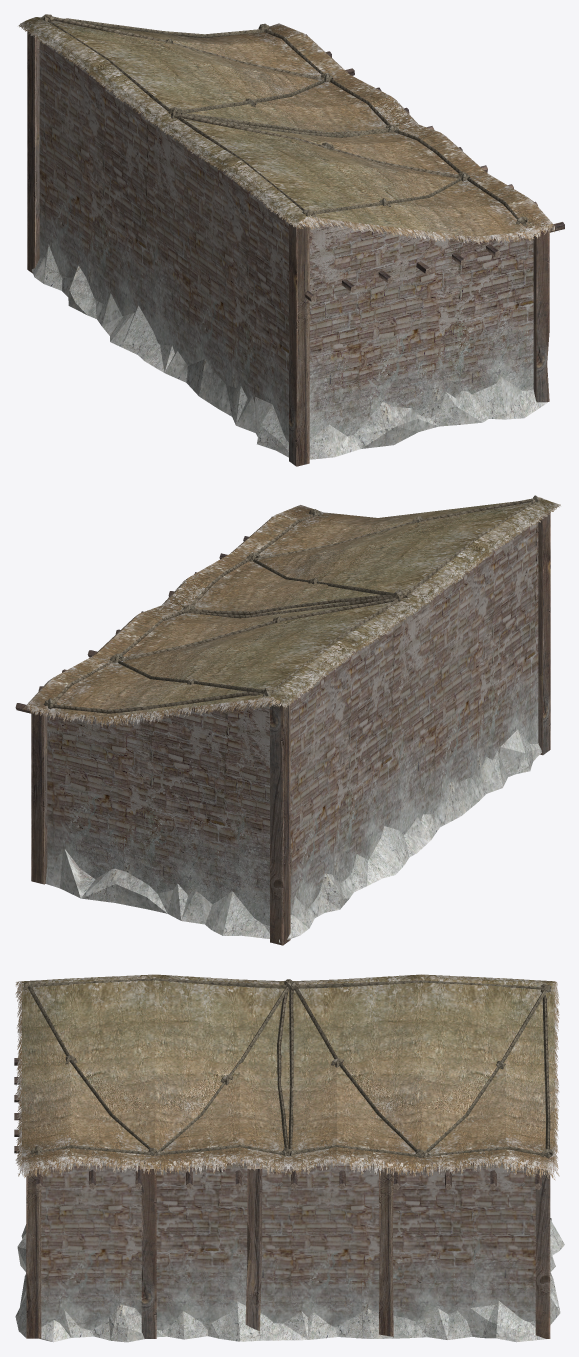
Rendered from bg_eud_common_house01_sm_ysi.FBX.
The picture shows the model from 3 angles, top to bottom: view 1: azimuth 30°, elevation 25°; view 2: azimuth 150°, elevation 25°; view 3: azimuth 270°, elevation 25°; orthographic projection. The views are drawn at different scales.
Parts seen in each view (by area): view 1: bg_eud_common_house01_sm_ysi; view 2: bg_eud_common_house01_sm_ysi; view 3: bg_eud_common_house01_sm_ysi.
Part boxes in pixels (left/top/right/bottom): bg_eud_common_house01_sm_ysi: left=18, top=14, right=564, bottom=466; bg_eud_common_house01_sm_ysi: left=15, top=495, right=560, bottom=945; bg_eud_common_house01_sm_ysi: left=14, top=974, right=564, bottom=1342.
Size of the model in its own units: 487 by 418 by 827.
